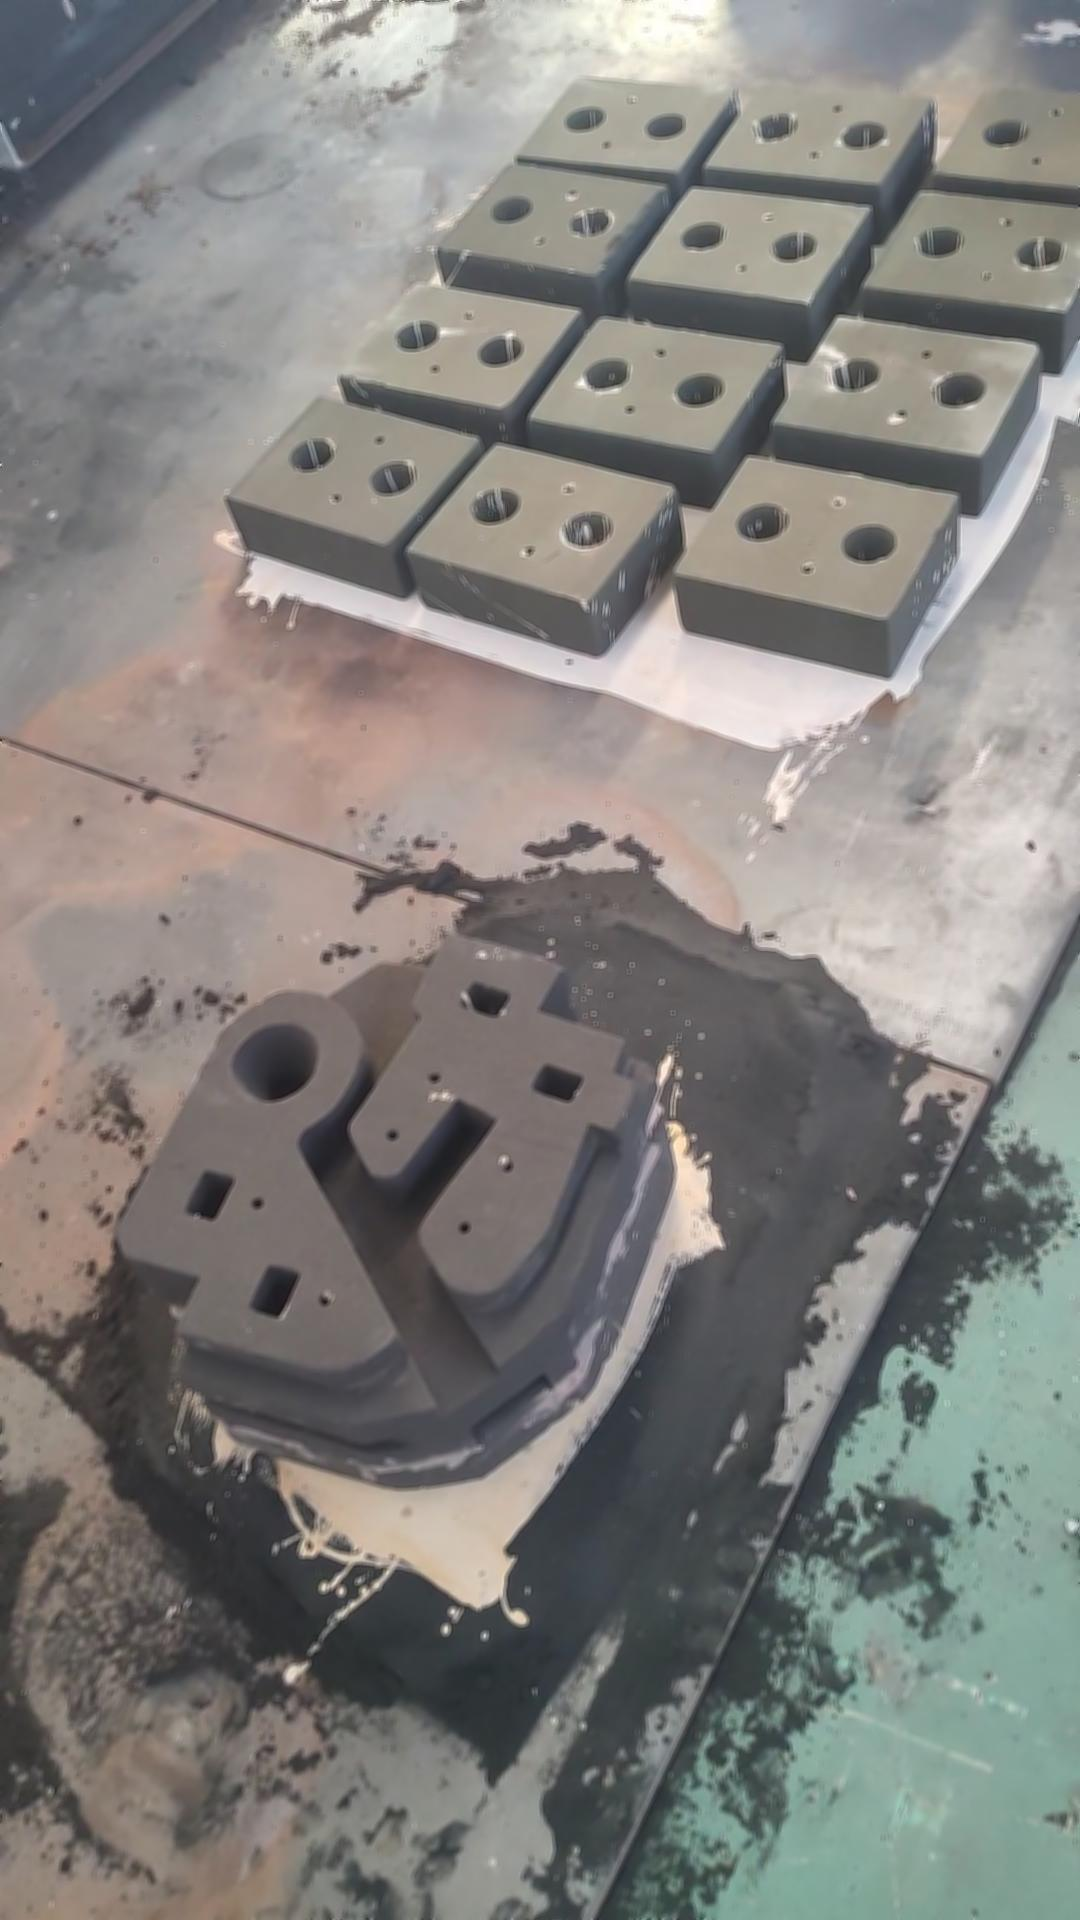pouring hole: (229, 1025, 318, 1102), (735, 502, 791, 543), (843, 524, 898, 564), (467, 487, 520, 525), (560, 512, 615, 549), (931, 372, 986, 407), (1011, 239, 1069, 270), (580, 357, 632, 392), (368, 460, 415, 497), (825, 359, 878, 392), (475, 334, 525, 368), (286, 436, 334, 472), (913, 225, 963, 258), (674, 375, 725, 406), (394, 320, 438, 353), (750, 111, 796, 141), (840, 120, 886, 150), (981, 119, 1030, 146), (771, 232, 815, 262), (680, 222, 724, 251), (570, 206, 611, 235), (491, 196, 533, 224), (560, 105, 605, 131), (646, 113, 684, 138)
